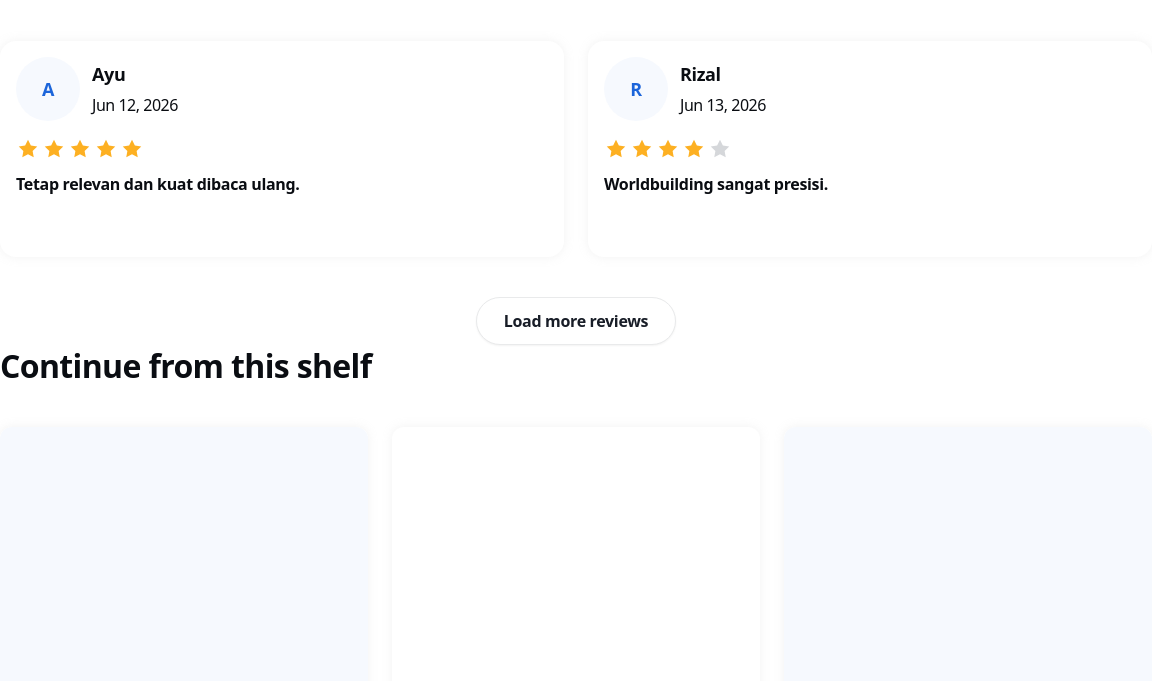
Test: book detail components › renders supported detail hierarchy, review load-more, related books, and hides pageCount
(page scrolled)
Expected: the heading "Ayu" is shown, x1=92 y1=62 x2=125 y2=86
Expected: the heading "Rizal" is shown, x1=680 y1=62 x2=721 y2=86
Click the button "Load more reviews" at (576, 321), box x1=476 y1=297 x2=676 y2=345
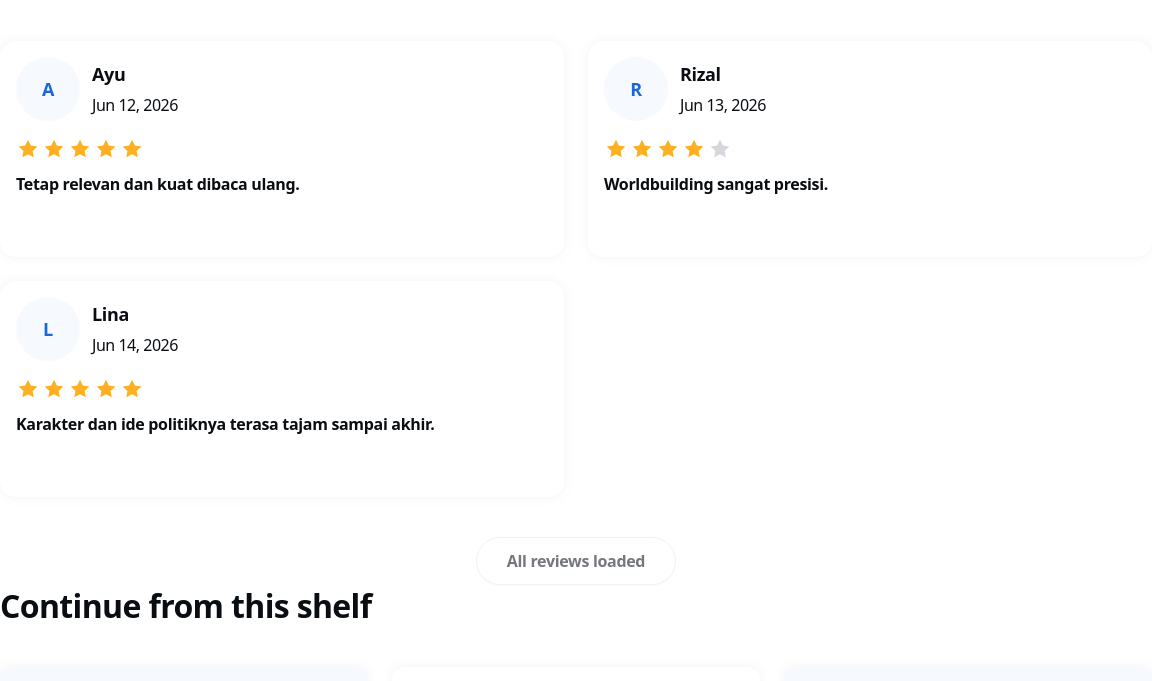
Now the heading "Lina" is shown, box x1=92 y1=302 x2=129 y2=326
Now the button "All reviews loaded" is shown, box x1=476 y1=537 x2=676 y2=585
